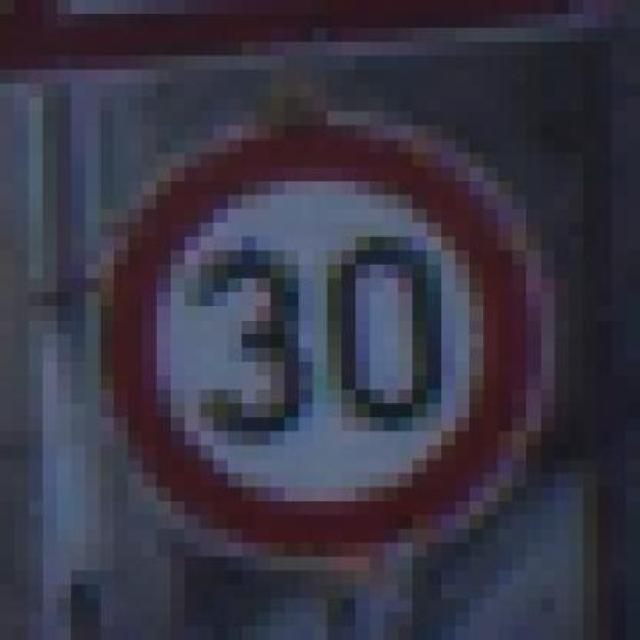Speed Limit 30 KMPh: (28, 124, 584, 570)
